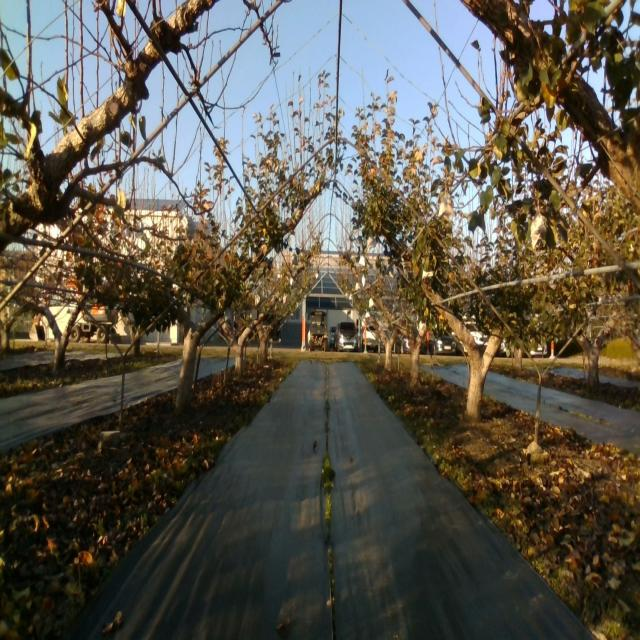pearbags: (530, 214, 547, 249), (178, 212, 195, 246), (438, 193, 454, 218)
